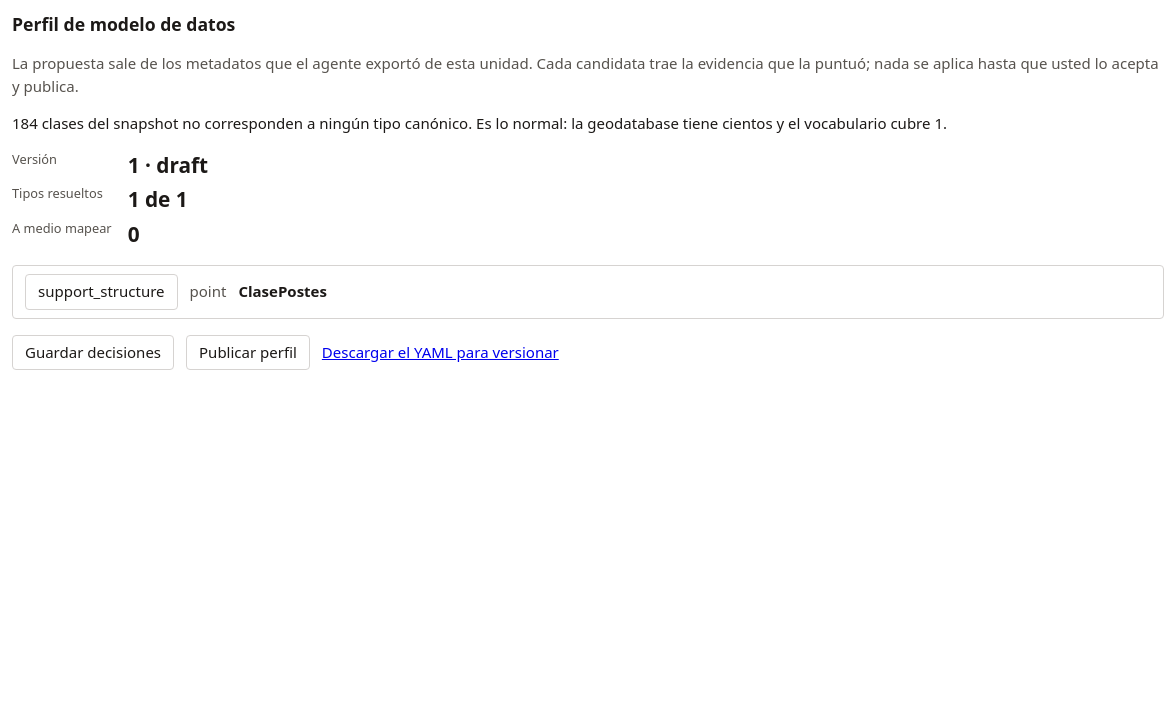
Test case: lo que se rechazó y por qué › un campo que coincidía por nombre y se rechazó aparece con el motivo
Click the button "support_structure": (101,292) [25,274,178,310]
(page scrolled)
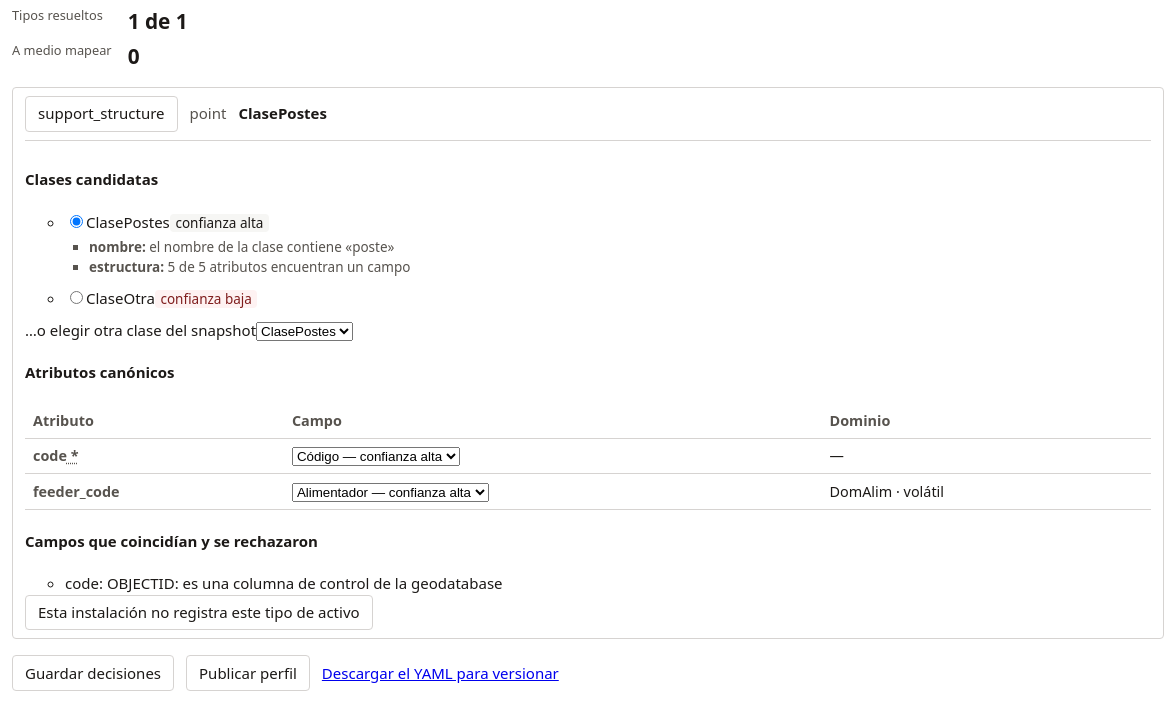
Now the list item "code: OBJECTID: es una columna de control de la geodatabase" is shown, box [65,573,503,593]
